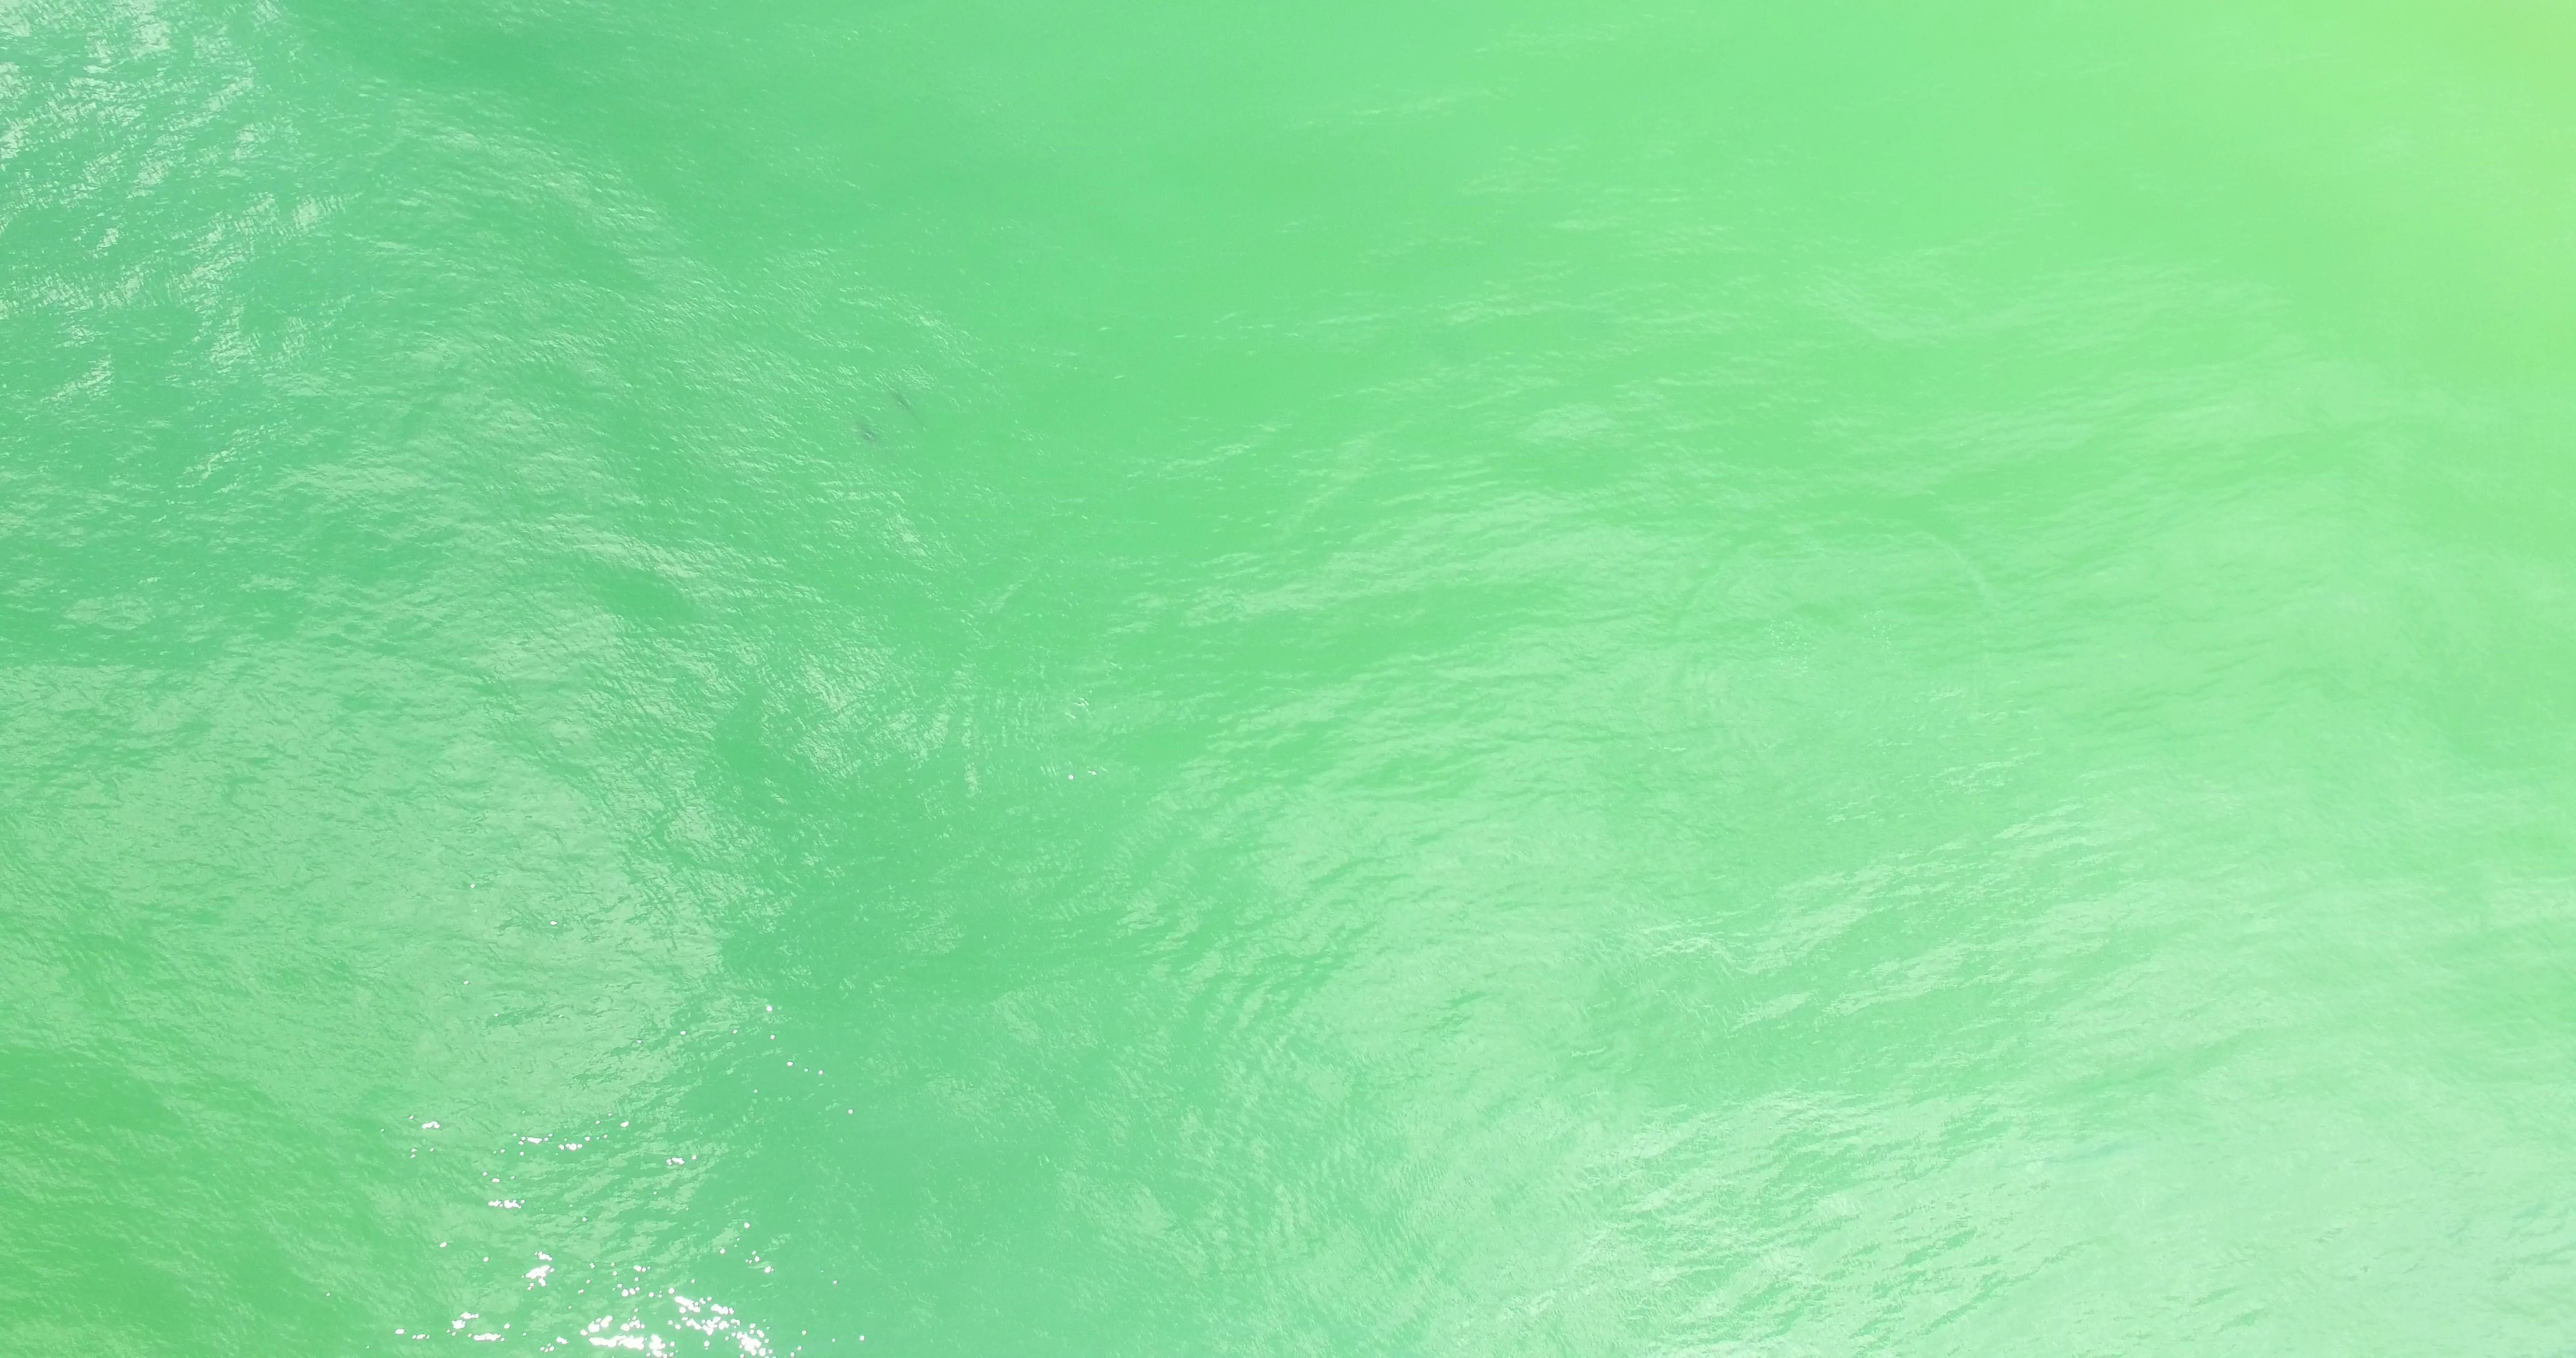dolphin: (886, 390, 929, 431), (848, 419, 886, 446)
